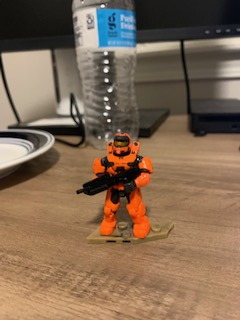rifle: (76, 165, 141, 197)
spartan: (90, 130, 157, 239)
